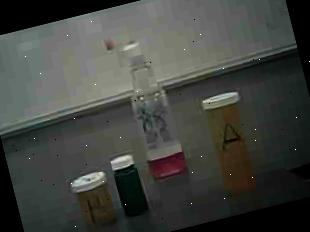Bottle A: (193, 78, 278, 204)
Bottle B: (65, 163, 124, 232)
Bottle C: (105, 144, 158, 224)
hazard: (99, 20, 197, 188)
